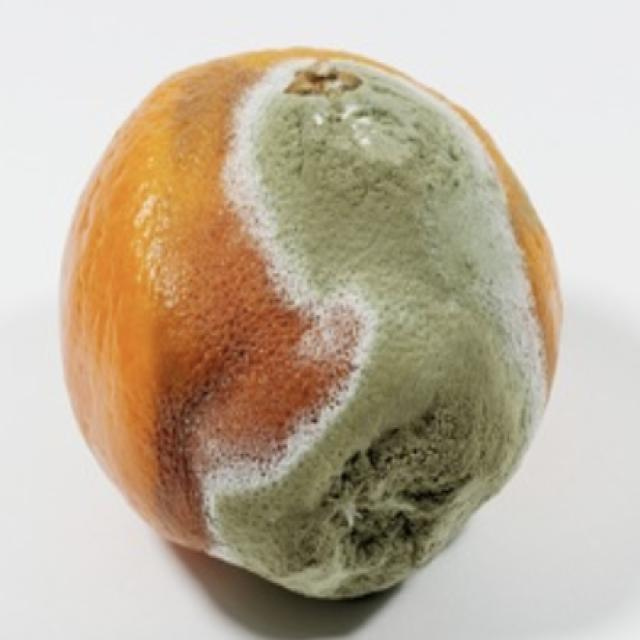sangat-busuk: (64, 48, 558, 598)
